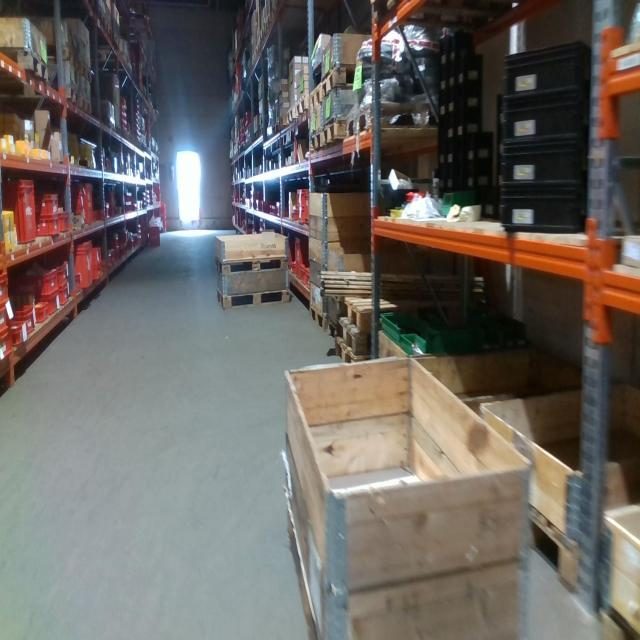pallet: (532, 508, 586, 599), (343, 100, 430, 131), (216, 284, 286, 313), (4, 51, 49, 88), (321, 64, 370, 94), (212, 255, 289, 274), (339, 317, 371, 355), (597, 610, 638, 639), (43, 49, 82, 79), (320, 117, 350, 148), (343, 297, 372, 328), (52, 94, 82, 112), (336, 341, 360, 363), (304, 304, 322, 328), (310, 81, 324, 109), (297, 91, 310, 121), (309, 127, 322, 154), (322, 321, 337, 342), (80, 65, 95, 80), (80, 93, 92, 111), (286, 103, 294, 127)
small_load_carrier: (502, 38, 597, 101), (494, 184, 590, 234), (492, 137, 593, 184), (501, 102, 593, 137), (3, 180, 41, 248), (26, 263, 59, 296), (74, 234, 90, 294), (12, 303, 35, 341), (29, 296, 48, 334), (51, 280, 69, 318), (35, 191, 60, 218), (49, 256, 67, 292), (295, 236, 308, 280), (86, 261, 104, 292), (36, 218, 59, 242), (83, 180, 94, 225), (9, 320, 28, 345), (1, 302, 14, 338), (2, 326, 14, 365), (147, 225, 162, 250), (3, 266, 11, 308), (58, 208, 69, 238), (69, 212, 85, 230), (304, 188, 311, 229), (91, 245, 103, 265), (69, 184, 86, 198), (295, 191, 306, 209), (72, 196, 83, 212), (300, 264, 308, 285), (108, 236, 119, 249), (100, 204, 108, 221), (297, 209, 306, 223), (306, 269, 313, 287), (113, 249, 121, 260), (291, 212, 297, 224)
